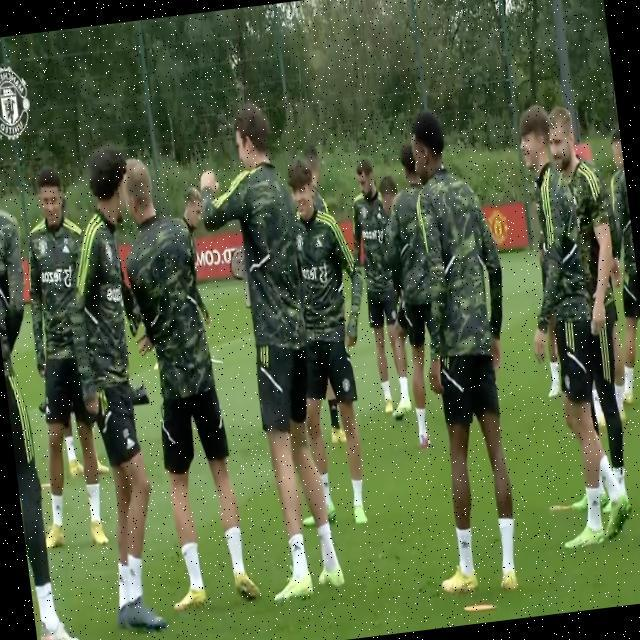Adidas: (460, 536, 472, 553), (312, 237, 324, 252), (124, 437, 135, 451)
